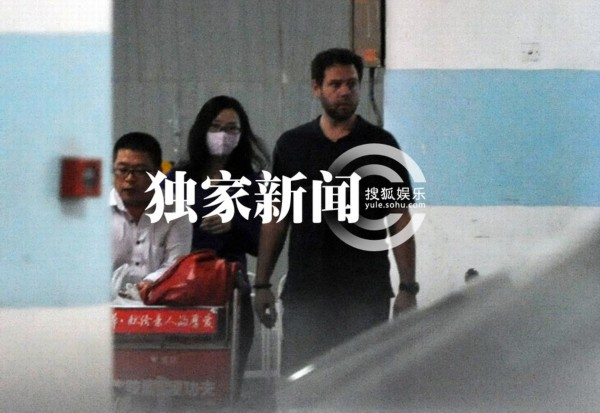face: (112, 150, 155, 204), (320, 75, 360, 119)
face_mask: (206, 111, 241, 156)
